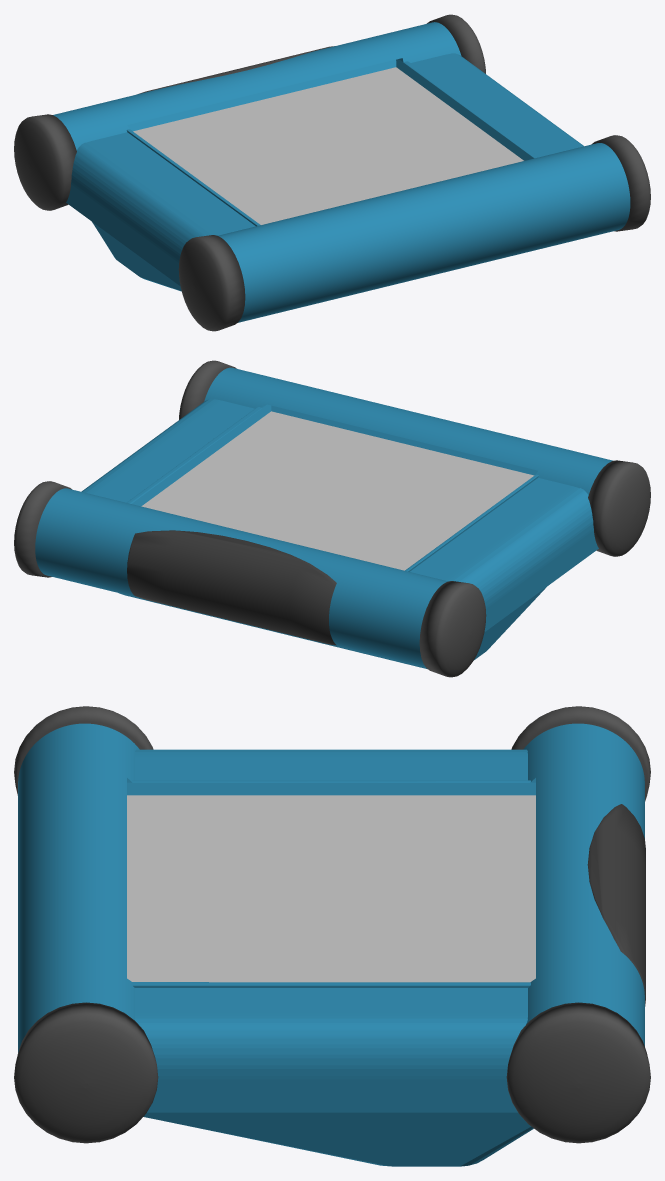
The model's file is Denmoku.fbx.
3 renders of one model, top to bottom at view 1: azimuth 30°, elevation 25°; view 2: azimuth 150°, elevation 25°; view 3: azimuth 270°, elevation 25°, orthographic. The views are drawn at different scales.
Visible parts, largest first — view 1: Cube, 円柱.001, 円柱, 円柱.002, 円柱.004, 円柱.003, 円柱.005, 円柱.007; view 2: Cube, 円柱, 円柱.007, 円柱.001, 円柱.004, 円柱.002, 円柱.005, 円柱.003; view 3: Cube, 円柱.001, 円柱, 円柱.003, 円柱.005, 円柱.007, 円柱.004, 円柱.002.
Part boxes in pixels (<box>): Cube: <box>66,53,583,291</box>; 円柱.001: <box>218,143,630,322</box>; 円柱: <box>53,22,461,150</box>; 円柱.002: <box>178,235,245,331</box>; 円柱.004: <box>14,114,76,210</box>; 円柱.003: <box>591,135,650,231</box>; 円柱.005: <box>427,14,485,73</box>; 円柱.007: <box>139,46,334,93</box>; Cube: <box>81,398,598,668</box>; 円柱: <box>35,488,448,667</box>; 円柱.007: <box>127,530,336,645</box>; 円柱.001: <box>204,367,613,494</box>; 円柱.004: <box>419,581,486,677</box>; 円柱.002: <box>588,460,650,556</box>; 円柱.005: <box>14,481,71,577</box>; 円柱.003: <box>179,360,236,419</box>; Cube: <box>127,749,535,1166</box>; 円柱.001: <box>18,723,139,1052</box>; 円柱: <box>523,723,644,1046</box>; 円柱.003: <box>14,1002,158,1143</box>; 円柱.005: <box>506,1002,650,1143</box>; 円柱.007: <box>587,804,645,1006</box>; 円柱.004: <box>511,706,650,801</box>; 円柱.002: <box>14,706,153,795</box>.
Size of the model in its own units: 6.51 by 1.72 by 5.44.
